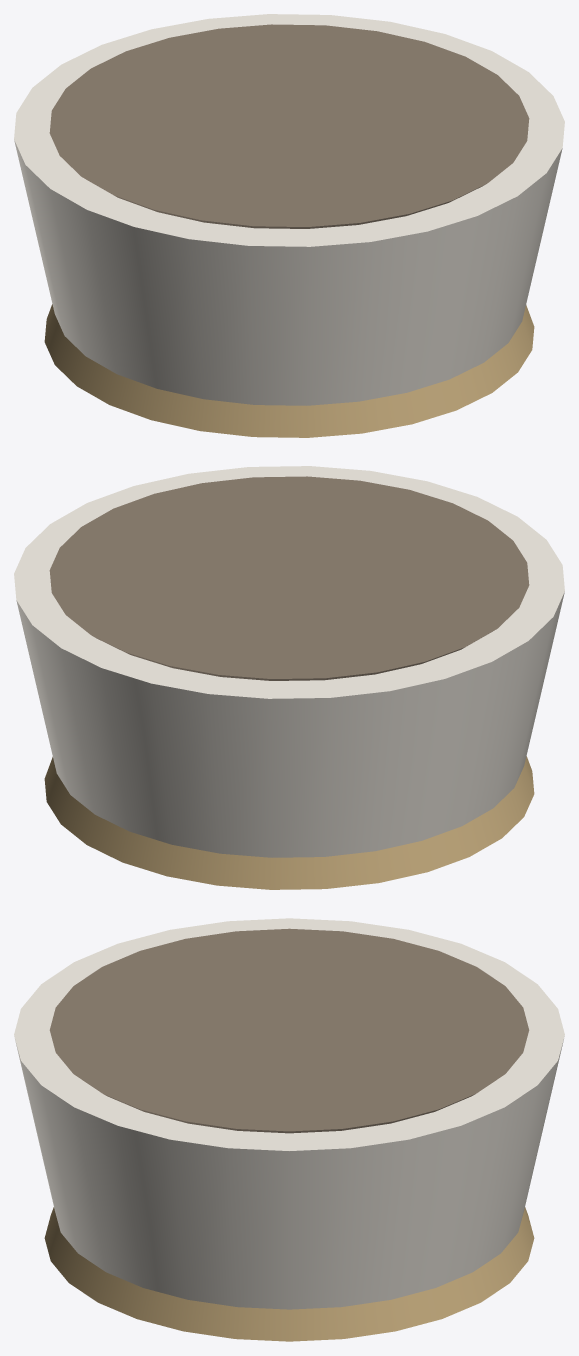
The model's file is SV_MP_SKU_07_v01.glb.
3 views of the same model, one above another, from view 1: azimuth 30°, elevation 25°; view 2: azimuth 150°, elevation 25°; view 3: azimuth 270°, elevation 25° (orthographic).
Parts seen in each view (by area): view 1: mproto_SV_MP_SKU_07_v01; view 2: mproto_SV_MP_SKU_07_v01; view 3: mproto_SV_MP_SKU_07_v01.
Boxes of the visible parts, x1,y1,x2,y2 form: mproto_SV_MP_SKU_07_v01: (14,14,564,437); mproto_SV_MP_SKU_07_v01: (14,466,564,889); mproto_SV_MP_SKU_07_v01: (14,918,564,1341).
Bounding box in the file's own units: 0.054 × 0.0225 × 0.054.
